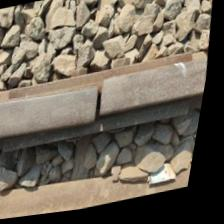person: (43, 53, 170, 174)
